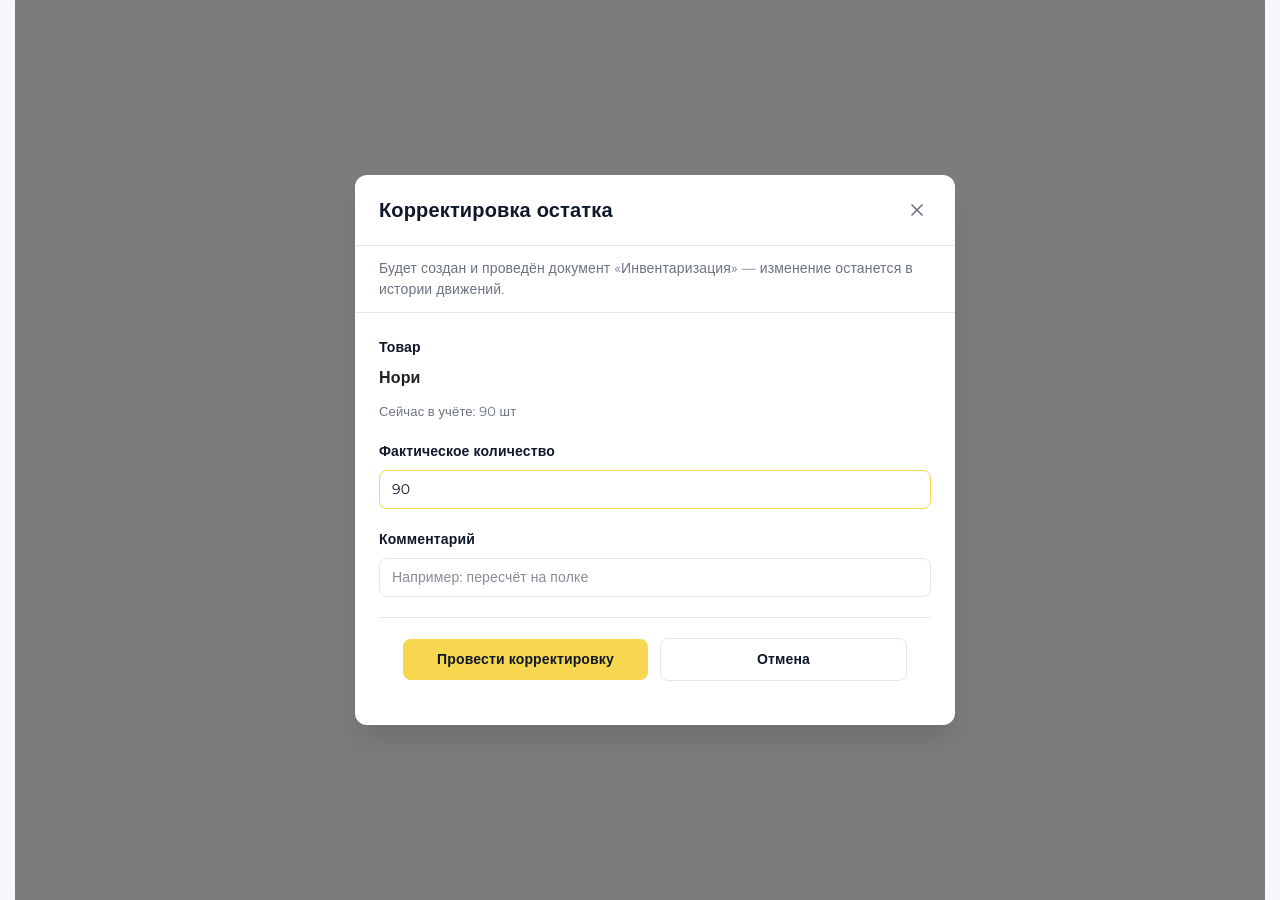
Test: StockAdjustmentModal › подставляет текущий остаток и показывает недостачу
Replace the text in the field labelled "Фактическое количество" with "50" at (655, 490), box [379, 470, 931, 509]
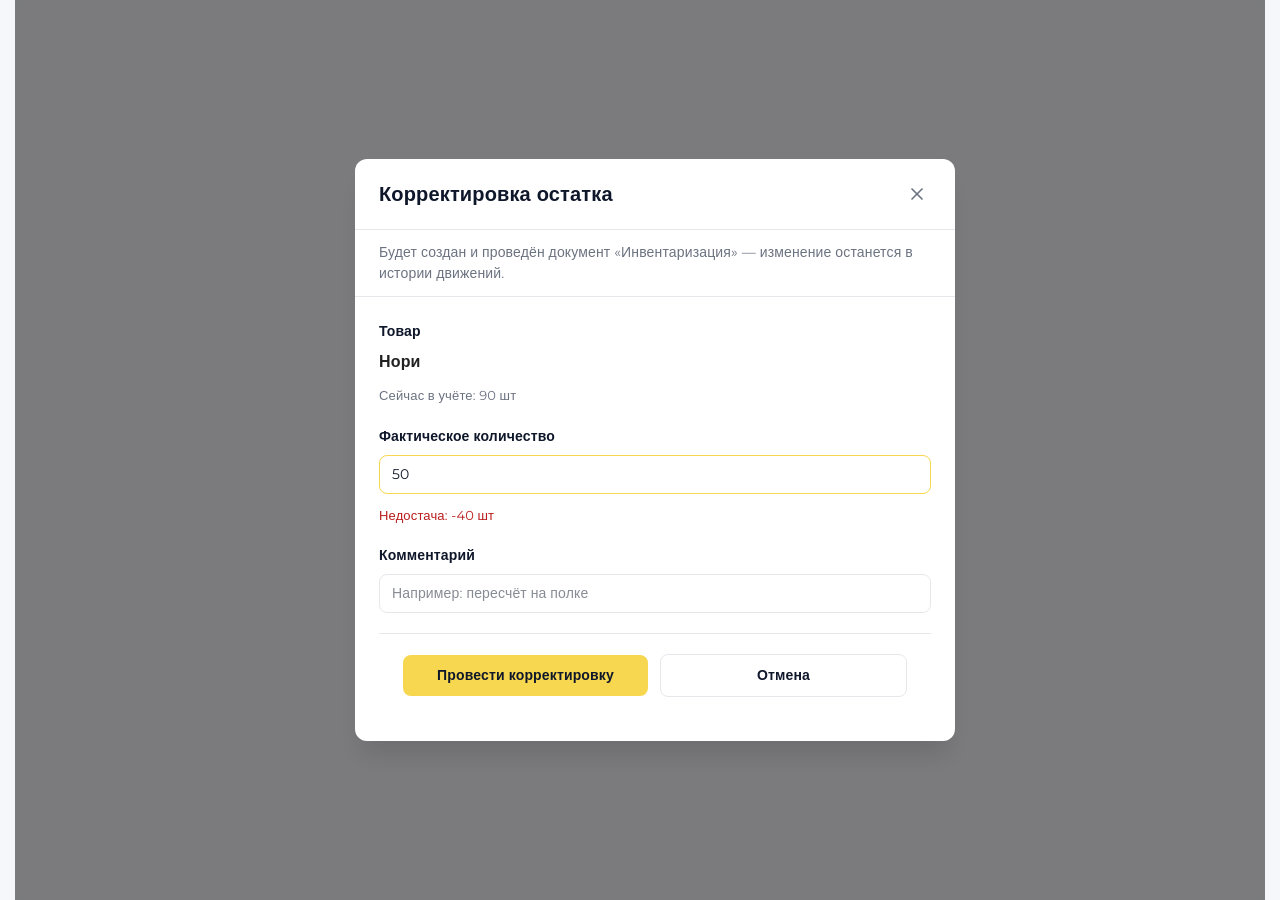
Expected: the text "Недостача: -40 шт" is shown, [379, 506, 494, 522]
